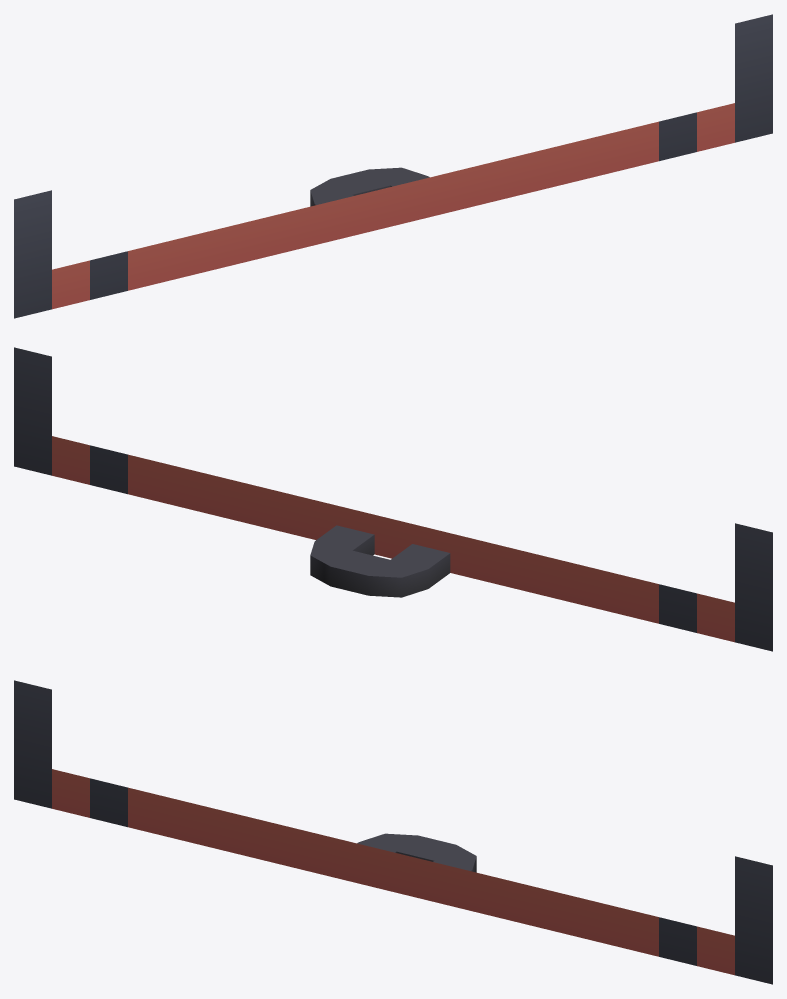
File: track-road-wide-cap-front.fbx
The picture shows the model from 3 angles, top to bottom: view 1: azimuth 30°, elevation 25°; view 2: azimuth 150°, elevation 25°; view 3: azimuth 330°, elevation 25°; orthographic projection.
Visible parts, largest first — view 1: track-road-wide-cap-front; view 2: track-road-wide-cap-front; view 3: track-road-wide-cap-front.
Boxes of the visible parts, box(x1,y1,x2,y2) form: track-road-wide-cap-front: box(14, 14, 772, 318); track-road-wide-cap-front: box(14, 347, 772, 651); track-road-wide-cap-front: box(14, 680, 772, 984).
Size of the model in its own units: 200 by 30 by 20.
